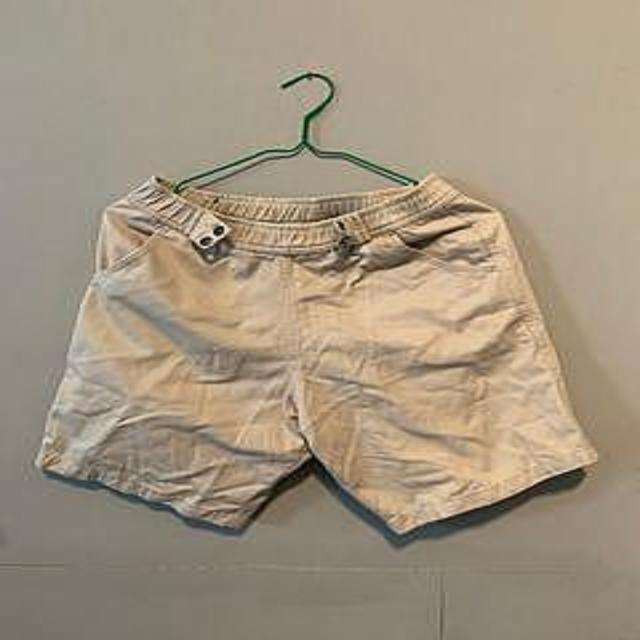SHIRT: (19, 166, 640, 548)
